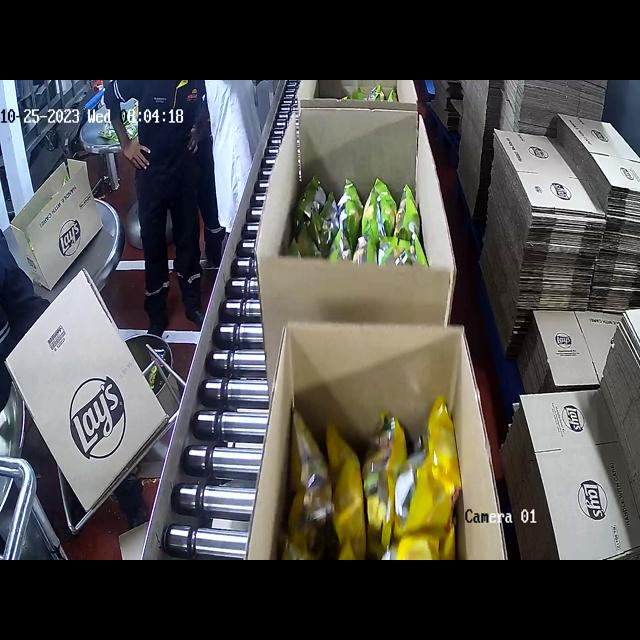salted: (305, 408, 464, 560)
yogurt: (312, 162, 425, 264)
